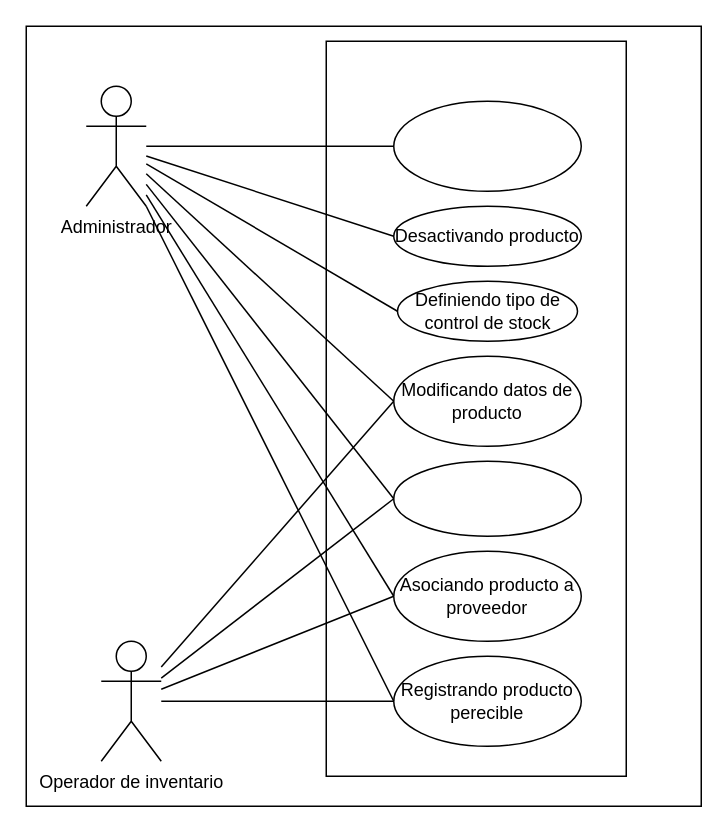
This 728x833 diagram has some shape labels left out. The shapes that lost their labels are listed below. From the top down, each one's box as (x1, y1, x2, y2) in pixels, then its label:
(392, 100, 581, 191): Registrando categoría de producto
(325, 40, 626, 776): Sistema BrewFlow
(392, 460, 581, 536): Registrando lote de producto
